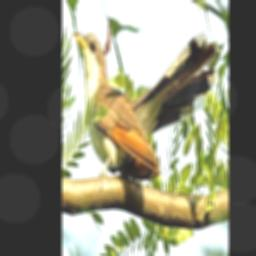Cuckoo: (72, 31, 220, 184)
